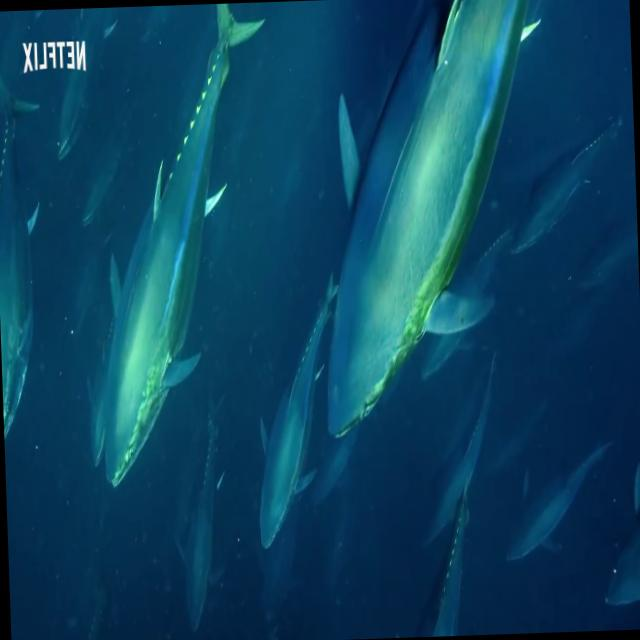fish: (316, 0, 552, 443), (82, 2, 262, 484), (249, 260, 347, 550)
